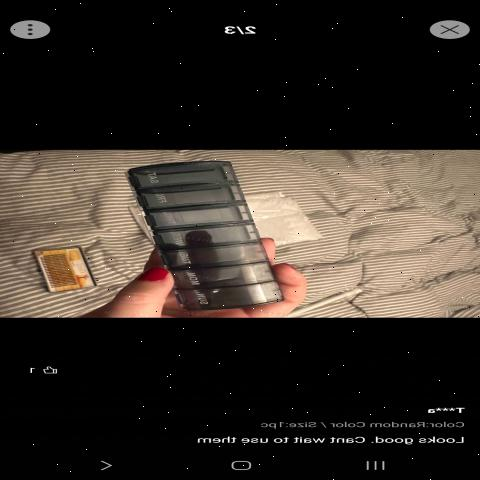PillBox: (102, 151, 293, 309)
